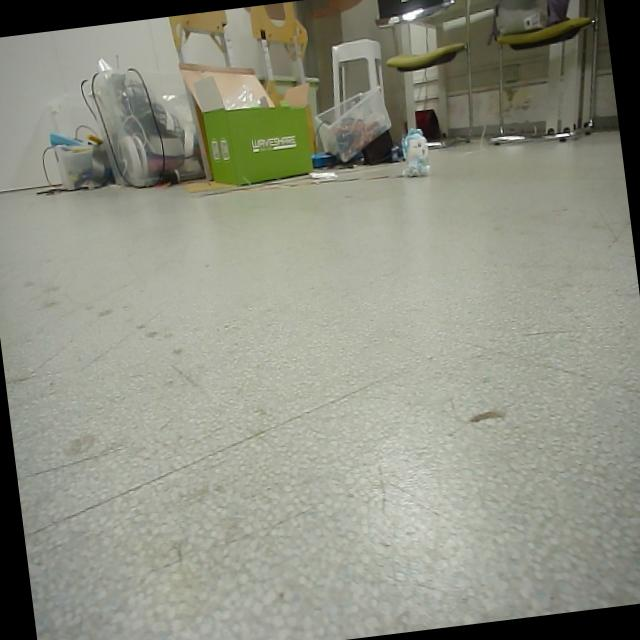xiaoba: (398, 125, 434, 178)
